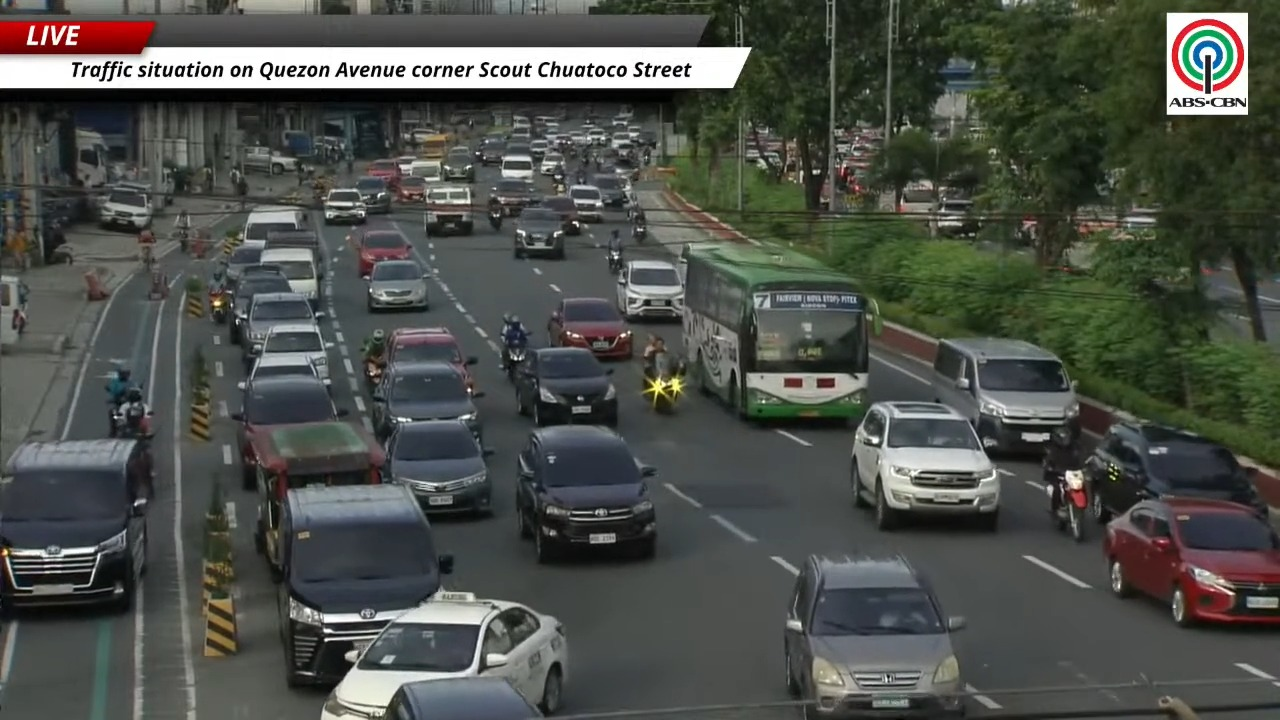bus: (681, 243, 880, 420), (418, 133, 451, 160)
car: (273, 477, 453, 686), (783, 554, 965, 719), (331, 590, 567, 713), (0, 439, 152, 612), (1103, 497, 1279, 625), (515, 425, 656, 563), (850, 401, 1000, 530), (1084, 421, 1268, 521), (930, 338, 1078, 453), (231, 376, 348, 490), (386, 420, 492, 514), (372, 362, 482, 439), (514, 348, 618, 426), (384, 676, 541, 719), (240, 292, 322, 366), (387, 328, 477, 389), (245, 323, 333, 384), (547, 297, 633, 358), (228, 265, 291, 343), (617, 260, 683, 319), (366, 259, 429, 312), (351, 229, 412, 277), (237, 354, 318, 390), (513, 207, 565, 258), (425, 184, 472, 235), (99, 187, 153, 231), (490, 179, 542, 215), (934, 198, 979, 237), (539, 195, 581, 235), (355, 176, 398, 213), (323, 188, 366, 224), (223, 245, 262, 284), (567, 185, 603, 222), (592, 174, 627, 207), (443, 146, 474, 182), (365, 160, 401, 187), (500, 152, 534, 180), (610, 141, 637, 173), (475, 137, 505, 165), (399, 175, 428, 202), (411, 159, 443, 183), (540, 151, 564, 175), (529, 138, 549, 161), (504, 141, 531, 158), (508, 125, 533, 143), (396, 155, 418, 175), (587, 127, 608, 145), (569, 130, 589, 146), (627, 125, 642, 143)
motorcycle: (1052, 468, 1088, 541), (643, 352, 685, 413), (106, 393, 126, 438), (503, 343, 526, 381), (209, 289, 229, 323), (108, 399, 124, 438), (364, 358, 383, 388), (607, 248, 622, 274), (488, 208, 502, 230), (632, 222, 646, 243), (552, 171, 565, 186), (553, 181, 566, 194)
truck: (76, 128, 109, 187), (243, 146, 299, 174)
